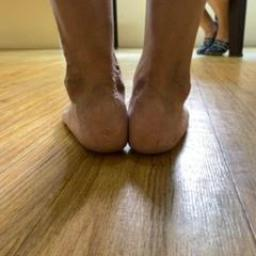Back View -Both Feet-: (48, 37, 209, 174)
